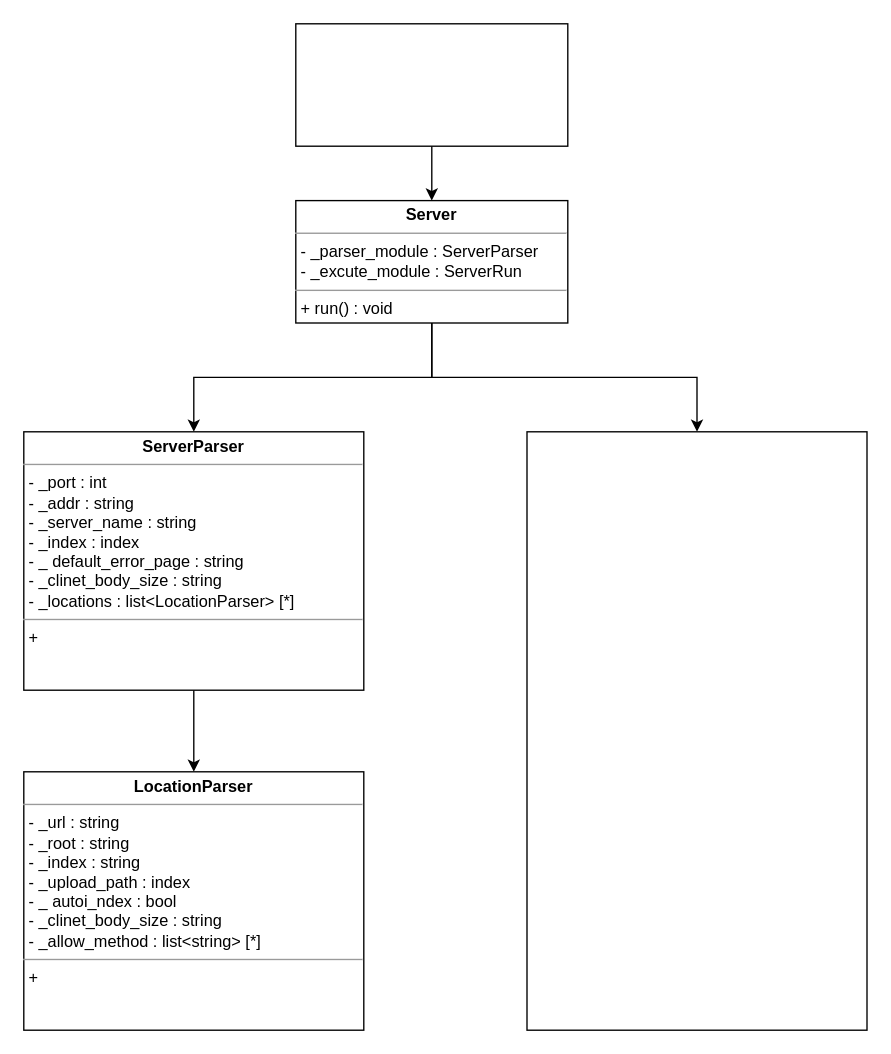
Image size: 891x1054. Some labels were removed from this diagram. Here are the shapes that lost their labels. From the top down, the box of each, then its label:
(294, 22, 568, 146): Webserver - _servers : list<Server> [*] + run() : void
(526, 430, 867, 1030): ServerRun - - - - - - - + run() : void
